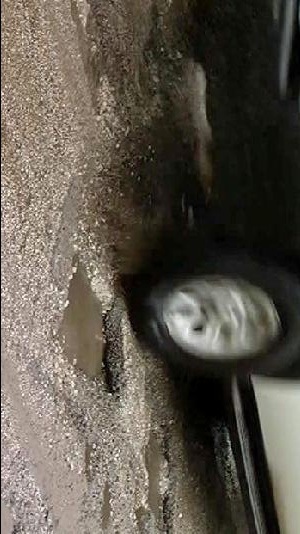pothole: (53, 243, 125, 392), (130, 420, 177, 533), (83, 439, 104, 480), (99, 477, 114, 532), (1, 490, 19, 534)
